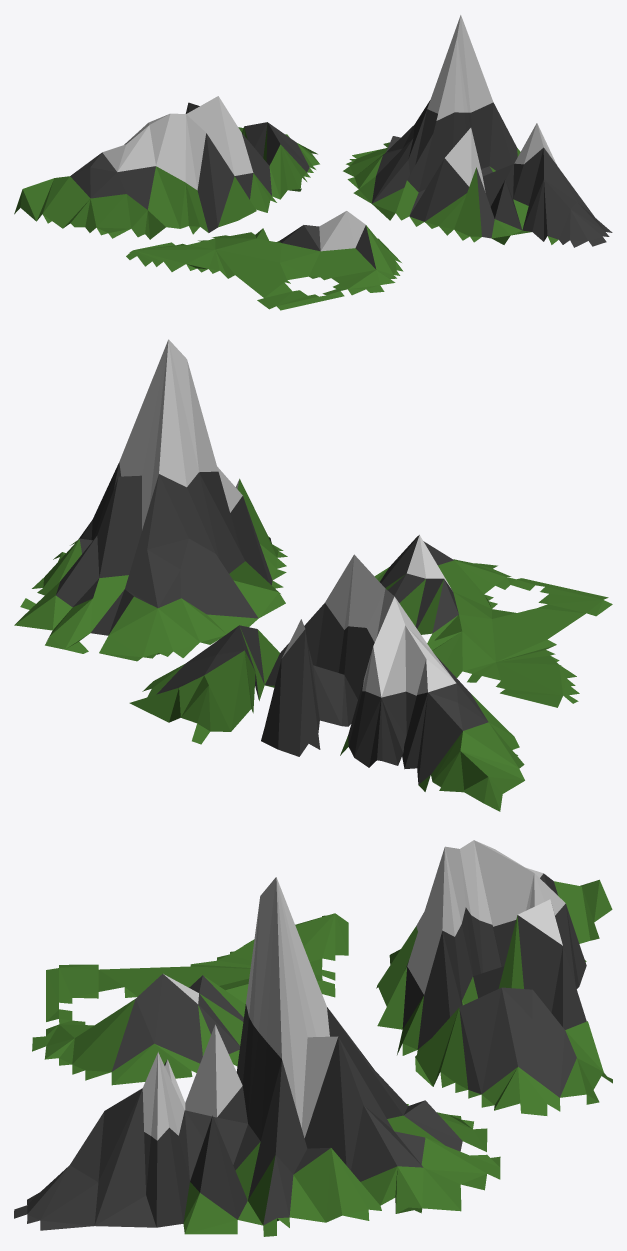
The model's file is Mountain3_low.fbx.
3 renders of one model, top to bottom at view 1: azimuth 30°, elevation 25°; view 2: azimuth 150°, elevation 25°; view 3: azimuth 270°, elevation 25°, orthographic. The views are drawn at different scales.
Visible parts, largest first — view 1: Plane.012; view 2: Plane.012; view 3: Plane.012.
Part boxes in pixels (box(x1,y1,x2,y2)): Plane.012: box(14, 15, 612, 310); Plane.012: box(14, 339, 612, 811); Plane.012: box(14, 840, 612, 1236).
Size of the model in its own units: 1221 by 525 by 920.
